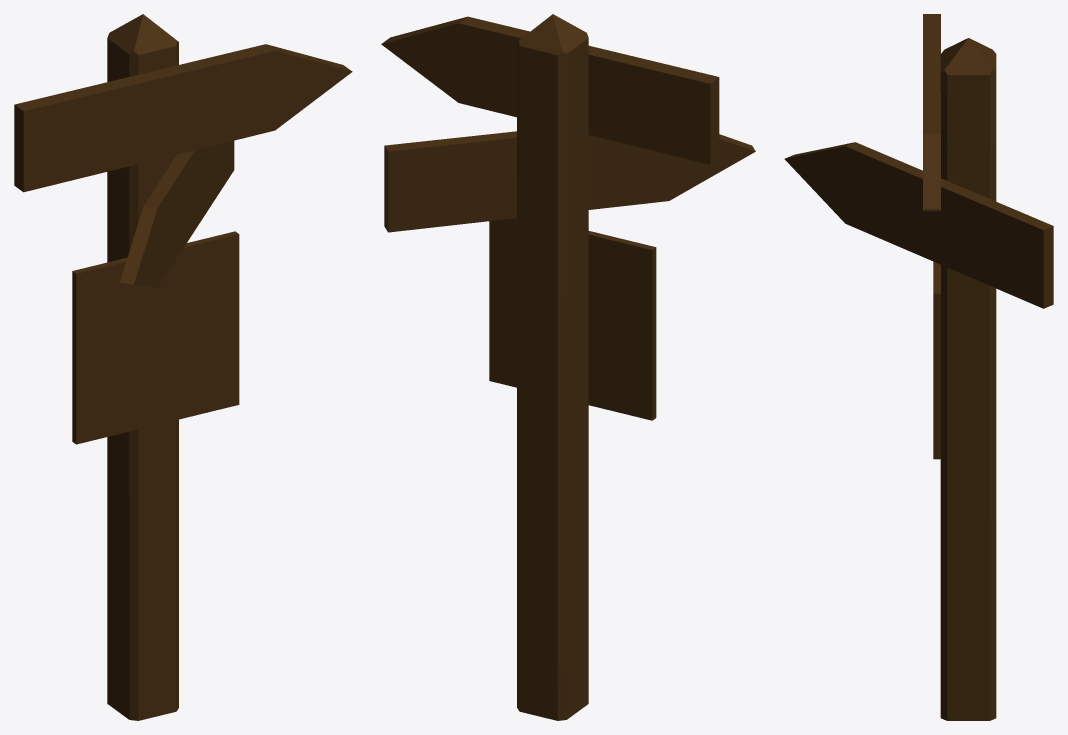
File: DirectionPanel.gltf
The picture shows the model from 3 angles, left to right: view 1: azimuth 30°, elevation 25°; view 2: azimuth 150°, elevation 25°; view 3: azimuth 270°, elevation 25°; orthographic projection. The views are drawn at different scales.
Parts seen in each view (by area): view 1: POTEAU; view 2: POTEAU; view 3: POTEAU.
Part boxes in pixels (bbox=[...]): POTEAU: bbox=[14, 14, 352, 720]; POTEAU: bbox=[381, 14, 755, 720]; POTEAU: bbox=[784, 14, 1053, 720].
Size of the model in its own units: 0.9958 by 2 by 0.7275.
